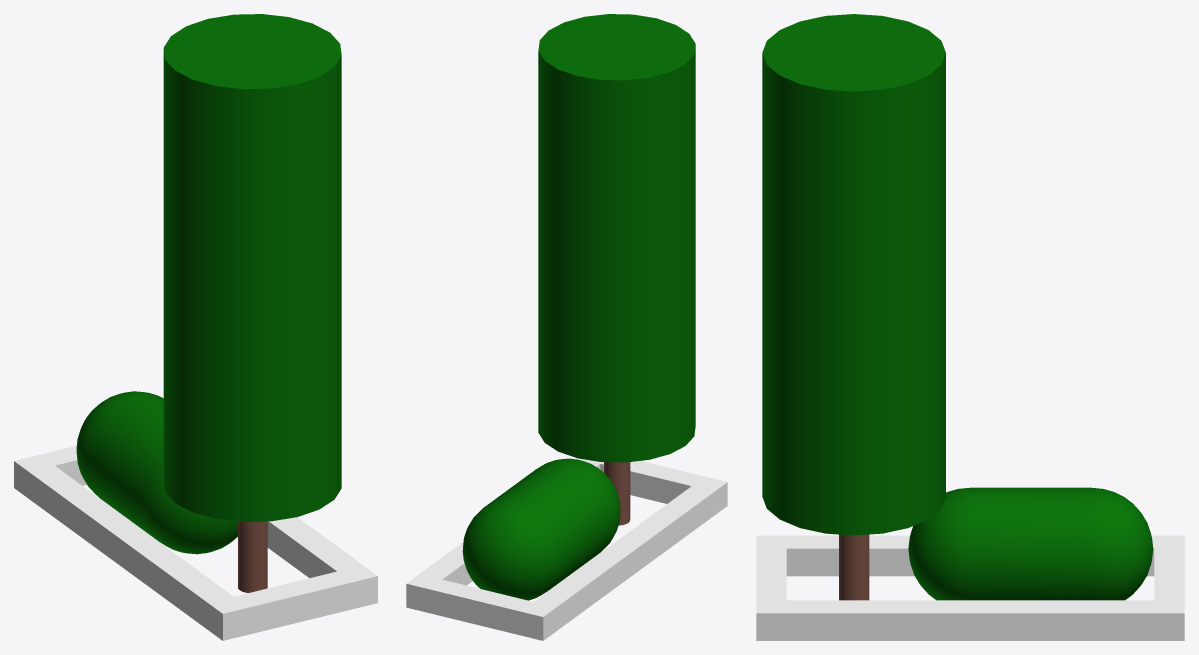
The model's file is StreetFoilage_3.fbx.
3 views of the same model, side by side, from view 1: azimuth 30°, elevation 25°; view 2: azimuth 150°, elevation 25°; view 3: azimuth 270°, elevation 25° (orthographic). The views are drawn at different scales.
Parts seen in each view (by area): view 1: Tree__11_, Bush__23_, BuildingBorer__11_, BuildingBorer__17_, BuildingBorer__12_, Tree__10_, BuildingBorer__18_; view 2: Tree__11_, Bush__23_, BuildingBorer__11_, BuildingBorer__18_, BuildingBorer__17_, BuildingBorer__12_, Tree__10_; view 3: Tree__11_, Bush__23_, BuildingBorer__12_, BuildingBorer__11_, BuildingBorer__17_, BuildingBorer__18_, Tree__10_.
Part boxes in pixels (x1,y1,x2,y2): Tree__11_: (163,14,341,521); Bush__23_: (76,391,237,554); BuildingBorer__11_: (29,465,233,629); BuildingBorer__17_: (208,565,377,640); BuildingBorer__12_: (267,517,362,578); Tree__10_: (238,521,267,592); BuildingBorer__18_: (14,445,86,498); Tree__11_: (538,14,695,462); Bush__23_: (462,458,620,600); BuildingBorer__11_: (534,486,714,630); BuildingBorer__18_: (406,574,556,640); BuildingBorer__17_: (580,458,727,514); BuildingBorer__12_: (420,458,600,585); Tree__10_: (604,462,630,525); Tree__11_: (762,14,945,535); Bush__23_: (908,487,1153,600); BuildingBorer__12_: (786,600,1154,640); BuildingBorer__11_: (786,535,1154,576); BuildingBorer__17_: (756,535,786,640); BuildingBorer__18_: (1154,535,1184,640); Tree__10_: (839,534,869,600).
Bounding box in the file's own units: 150 × 497 × 350.
